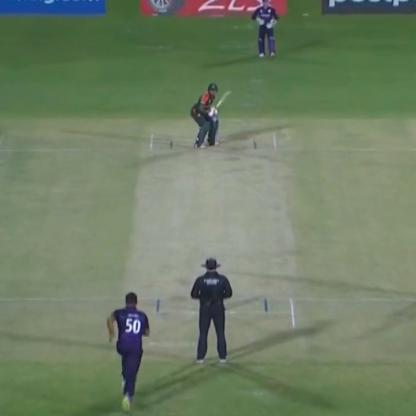bat: (209, 85, 233, 120)
pitch: (127, 126, 308, 360)
